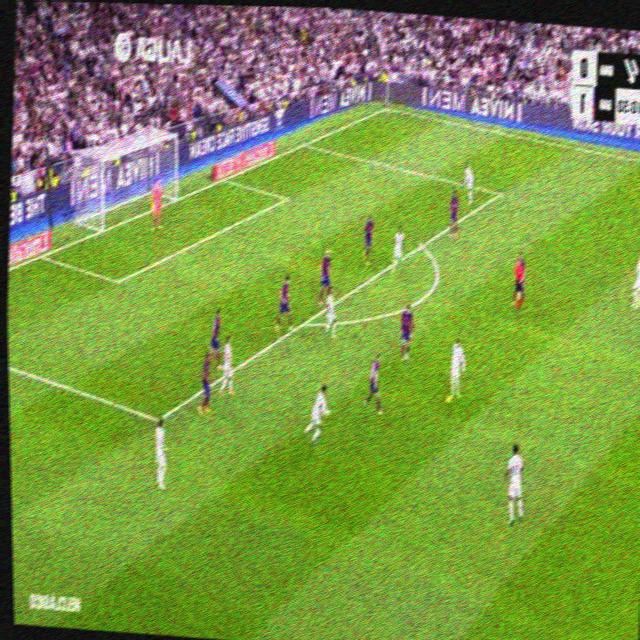bigarea_top_inner: (496, 186, 504, 201)
bigarea_top_outter: (301, 138, 309, 150)
bottom_arc_area_intersection: (301, 316, 308, 330)
corner: (383, 103, 389, 111)
smallarea_top_inner: (283, 193, 290, 205)
top_arc_area_intersection: (418, 238, 426, 252)
